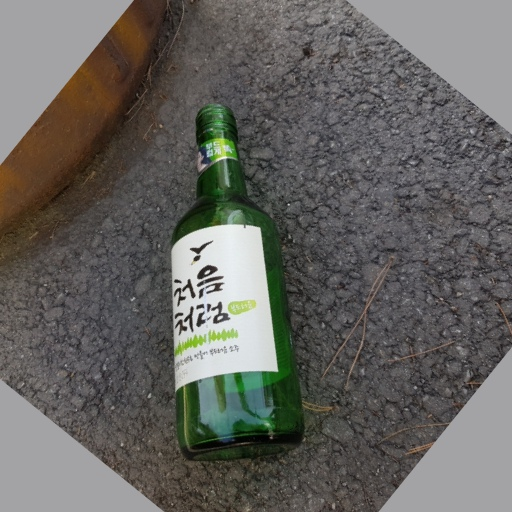Glass_0: (159, 101, 305, 464)
